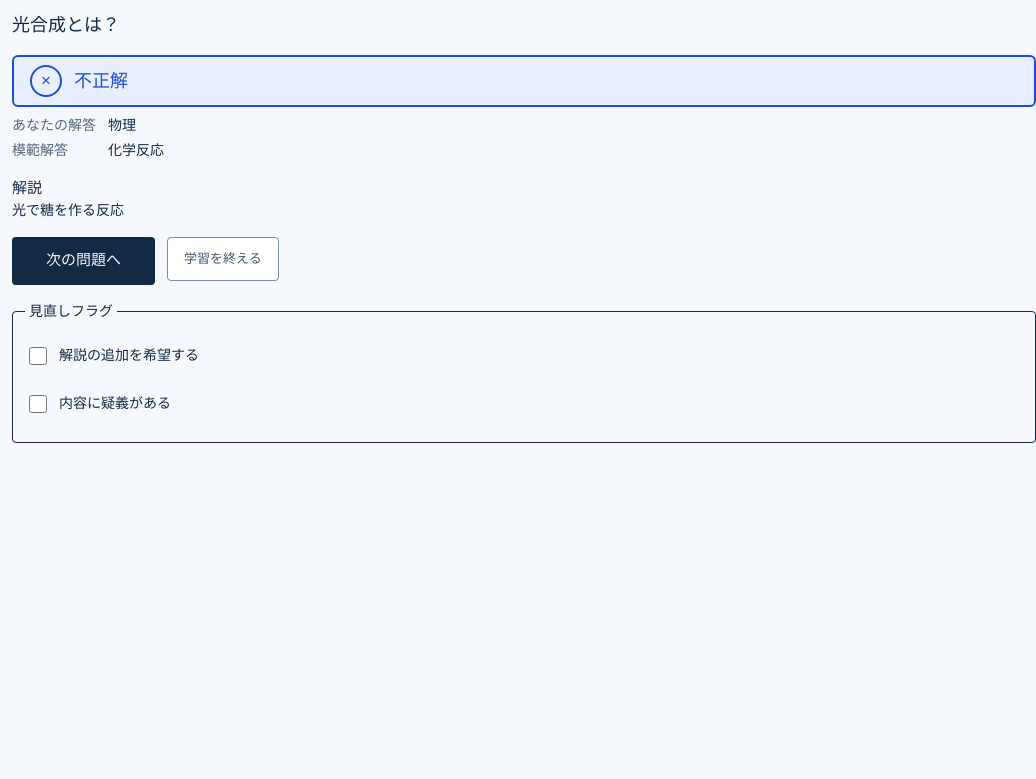
Test: QuestionResultPanel › 疑義の内容は入力欄からフォーカスが外れたときに版付き契約で自動保存し、保存ボタンは出さない
Expected: the field labelled "疑義の内容（任意）" is not shown
Click the checkbox labelled "内容に疑義がある": x=38, y=404 29,394 -> 47,412
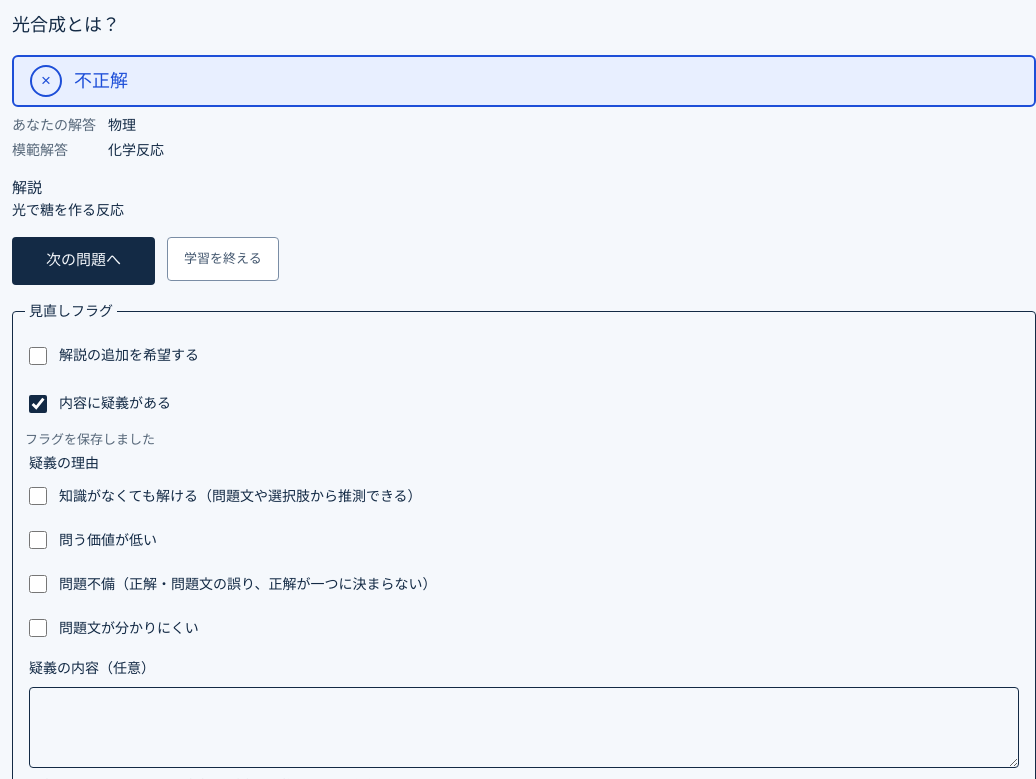
In the text box labelled "疑義の内容（任意）": x=524, y=728 29,687 -> 1019,768, type "  答えが古い  "
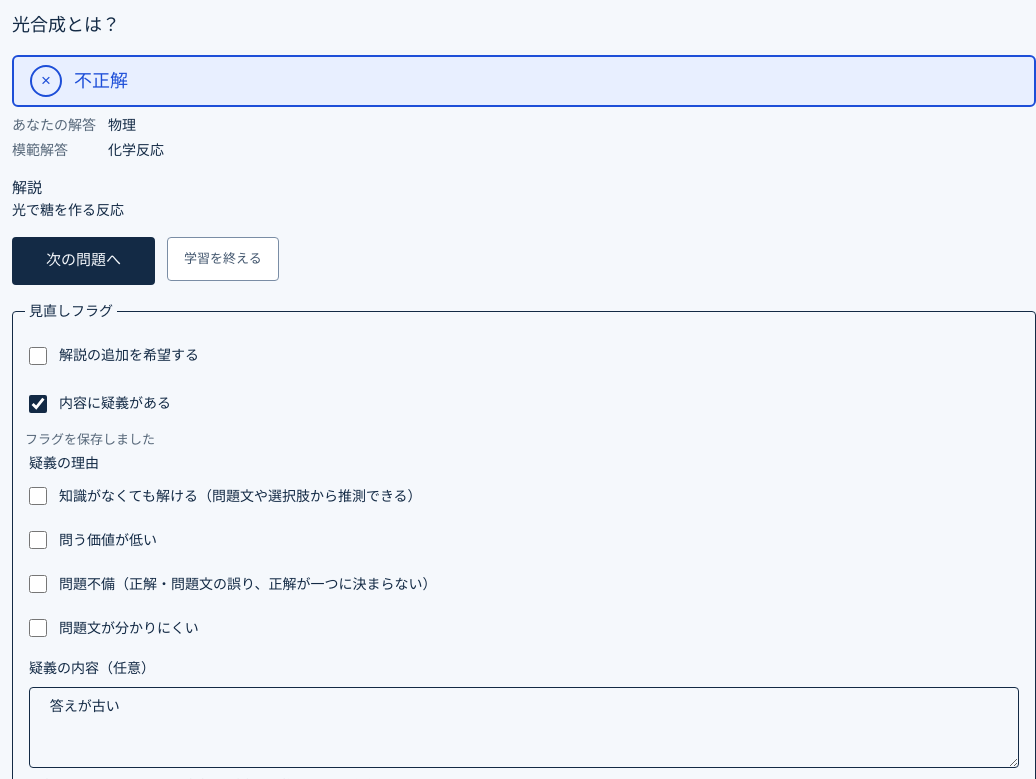
Leave the text box labelled "疑義の内容（任意）", box 29,687 -> 1019,768
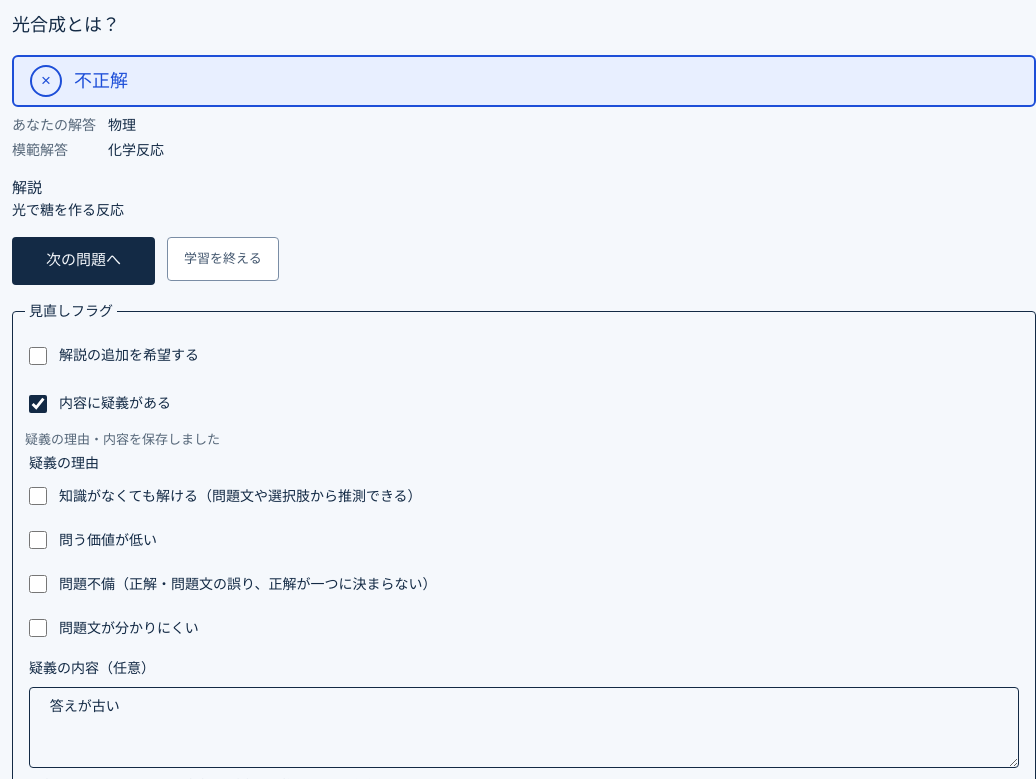
Expected: the text "疑義の理由・内容を保存しました" is shown, 25,432 -> 220,446
